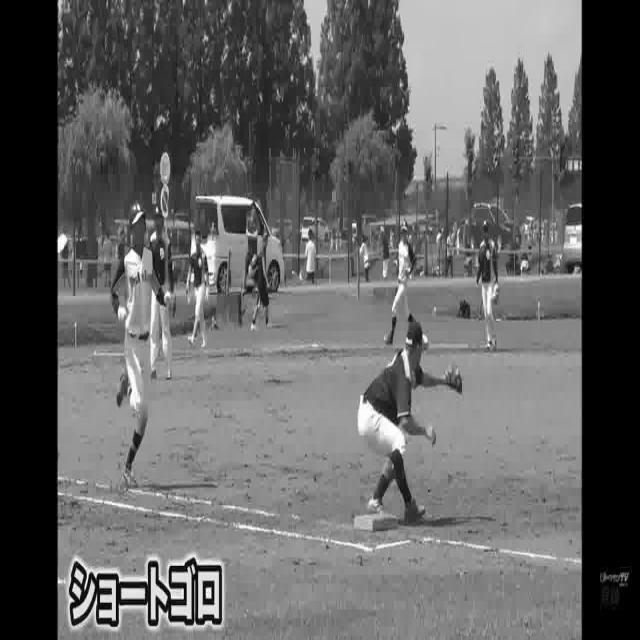base: (349, 511, 398, 534)
baseball_glove: (442, 360, 463, 393), (171, 284, 179, 324)
shoe: (114, 367, 130, 409), (402, 502, 429, 525), (120, 468, 143, 489), (366, 494, 388, 514)
